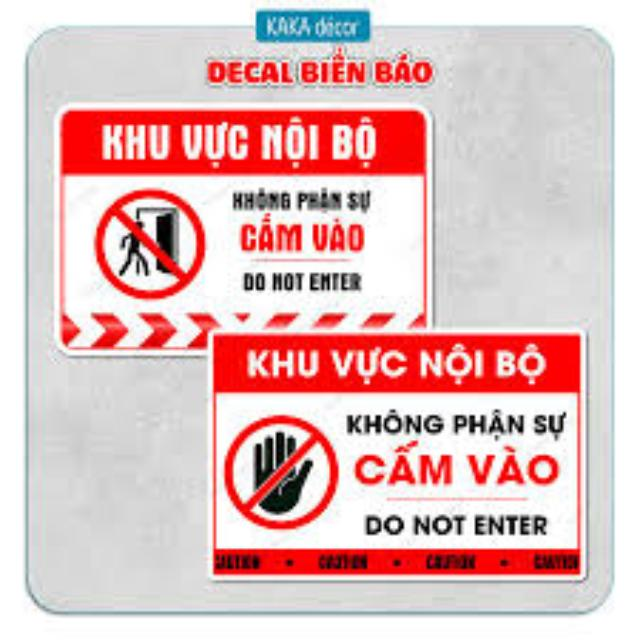khong phan su mien vao: (48, 105, 430, 353), (210, 330, 586, 577)
